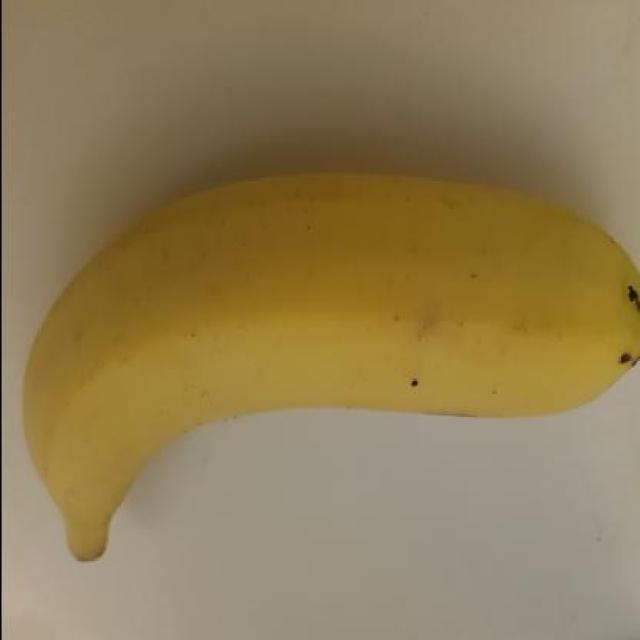Banana: (17, 155, 640, 574)
